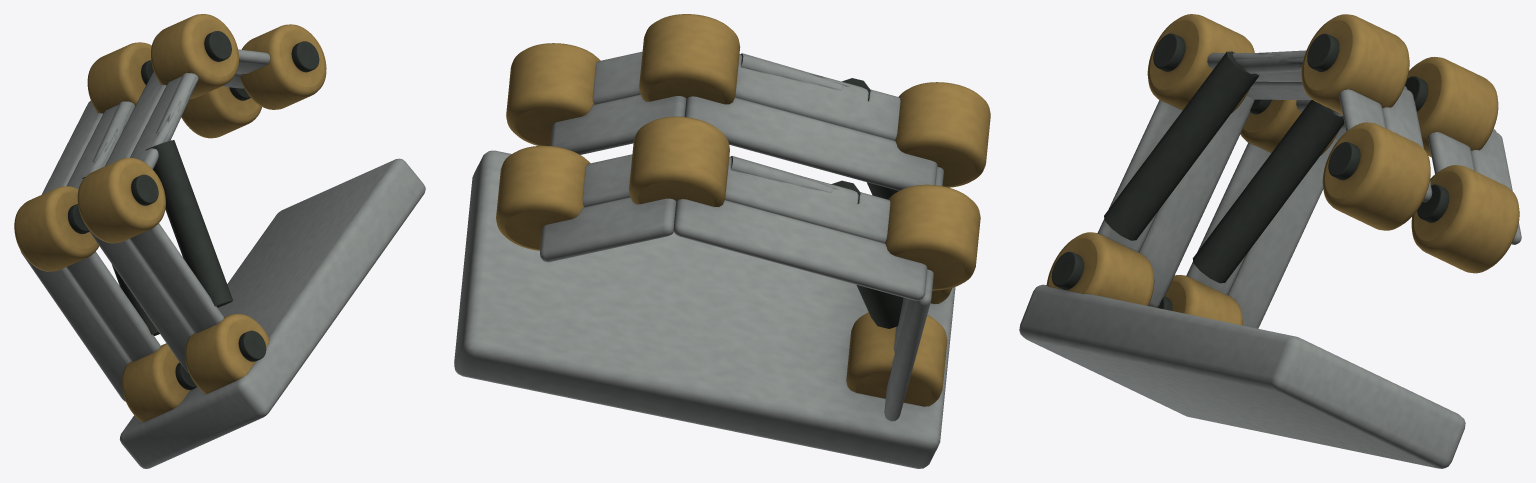
The picture shows the model from 3 angles, left to right: view 1: azimuth 30°, elevation 25°; view 2: azimuth 150°, elevation 25°; view 3: azimuth 270°, elevation 25°; orthographic projection. The views are drawn at different scales.
Parts seen in each view (by area): view 1: Arm installation foot; view 2: Arm installation foot; view 3: Arm installation foot.
Part boxes in pixels (x1,y1,x2,y2): Arm installation foot: (14, 14, 425, 468); Arm installation foot: (454, 14, 990, 468); Arm installation foot: (1019, 14, 1521, 468).
Bounding box in the file's own units: 1.27 × 1.14 × 1.11.
1 material, 1 textured.
